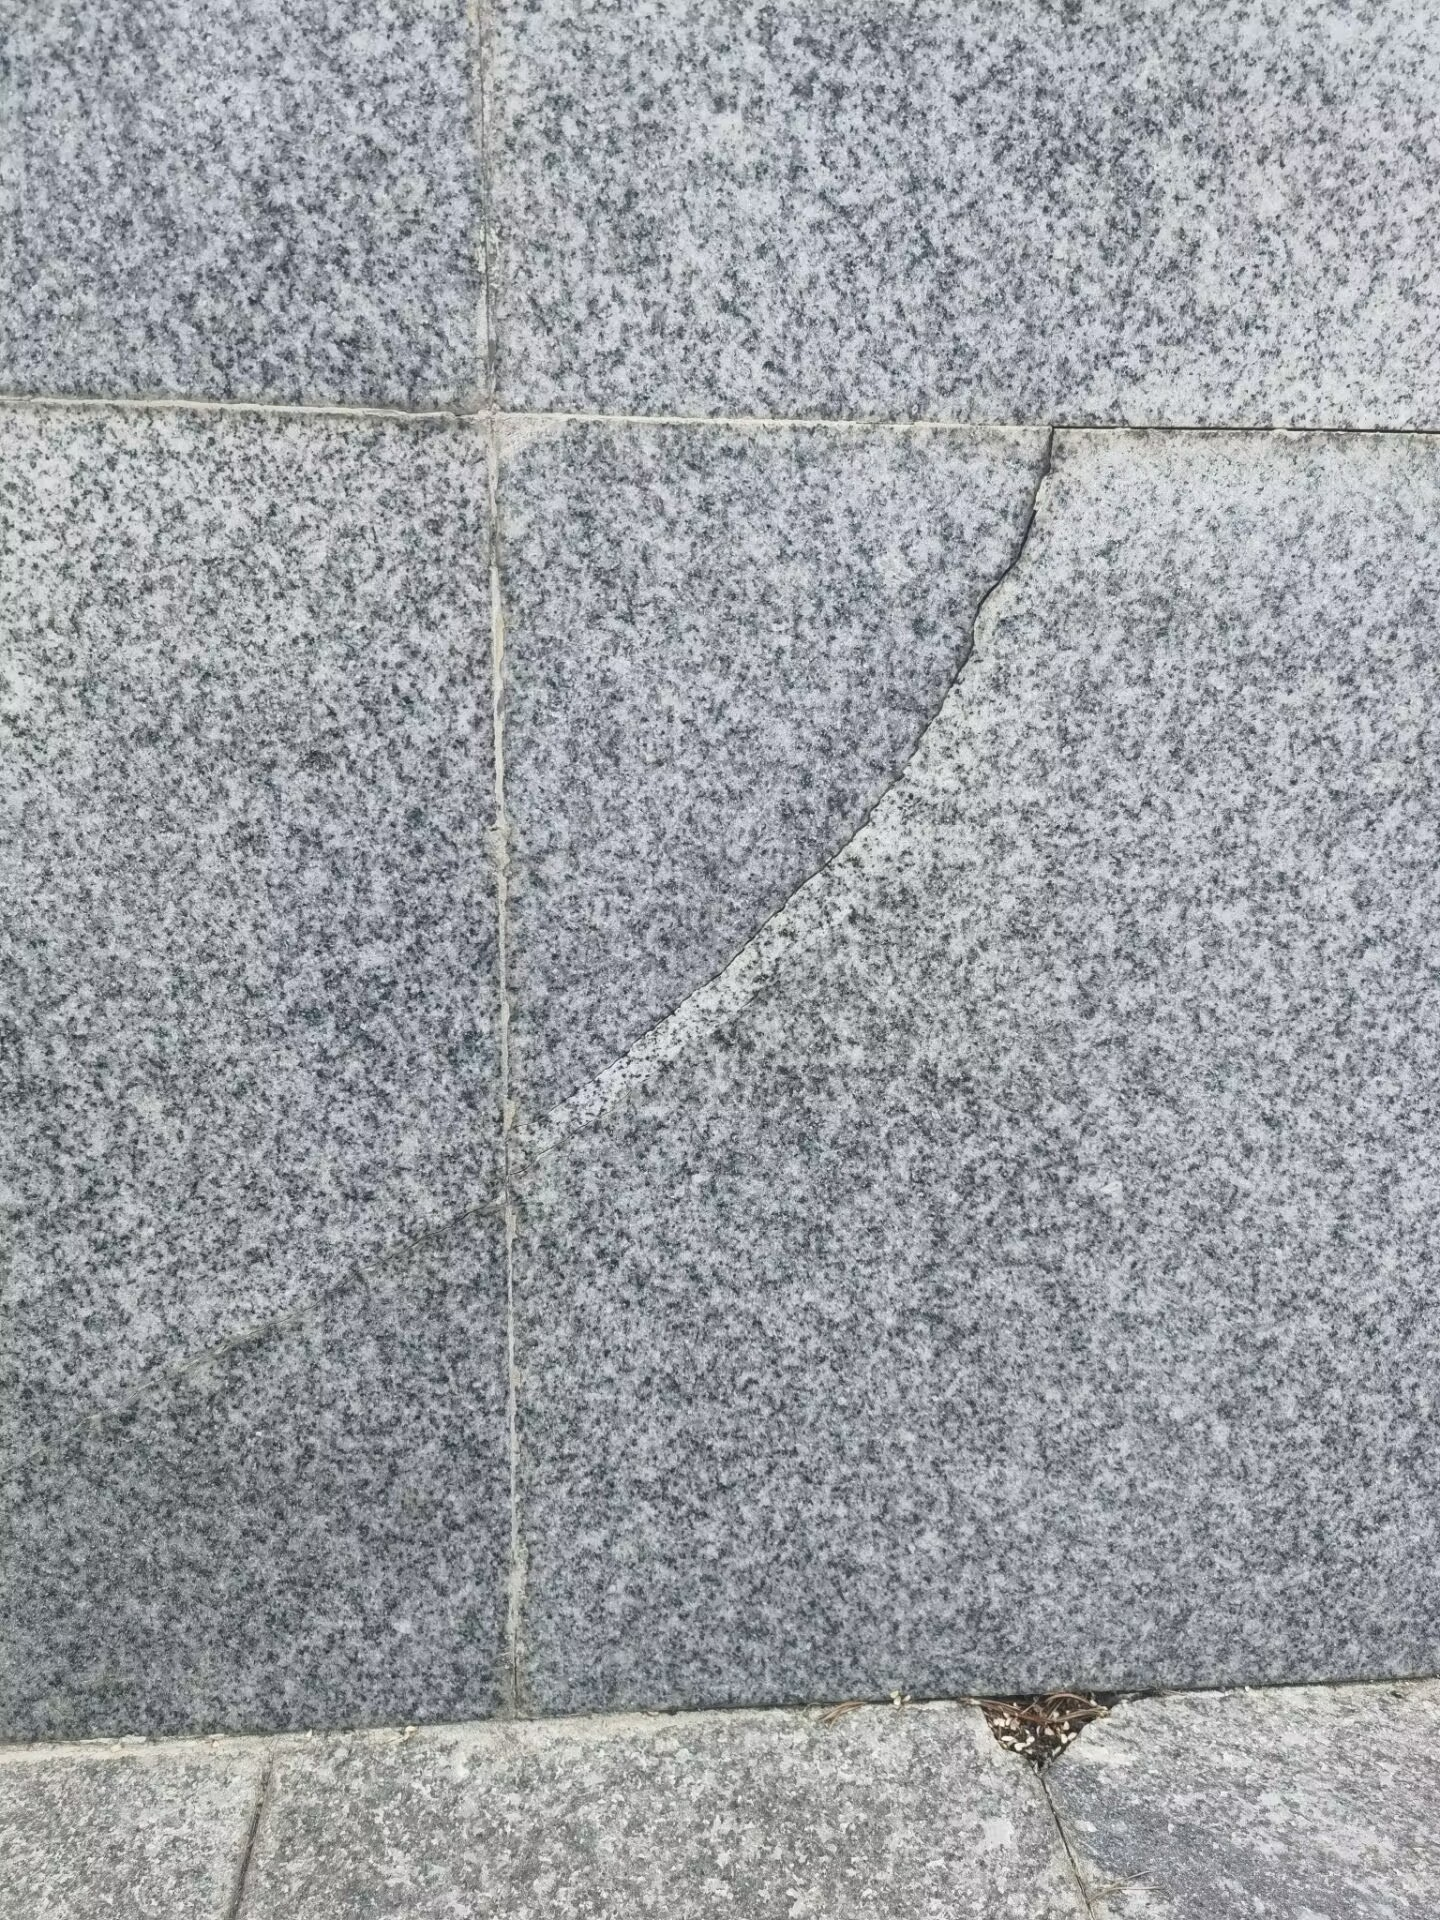TILE: (507, 426, 1101, 1098)
